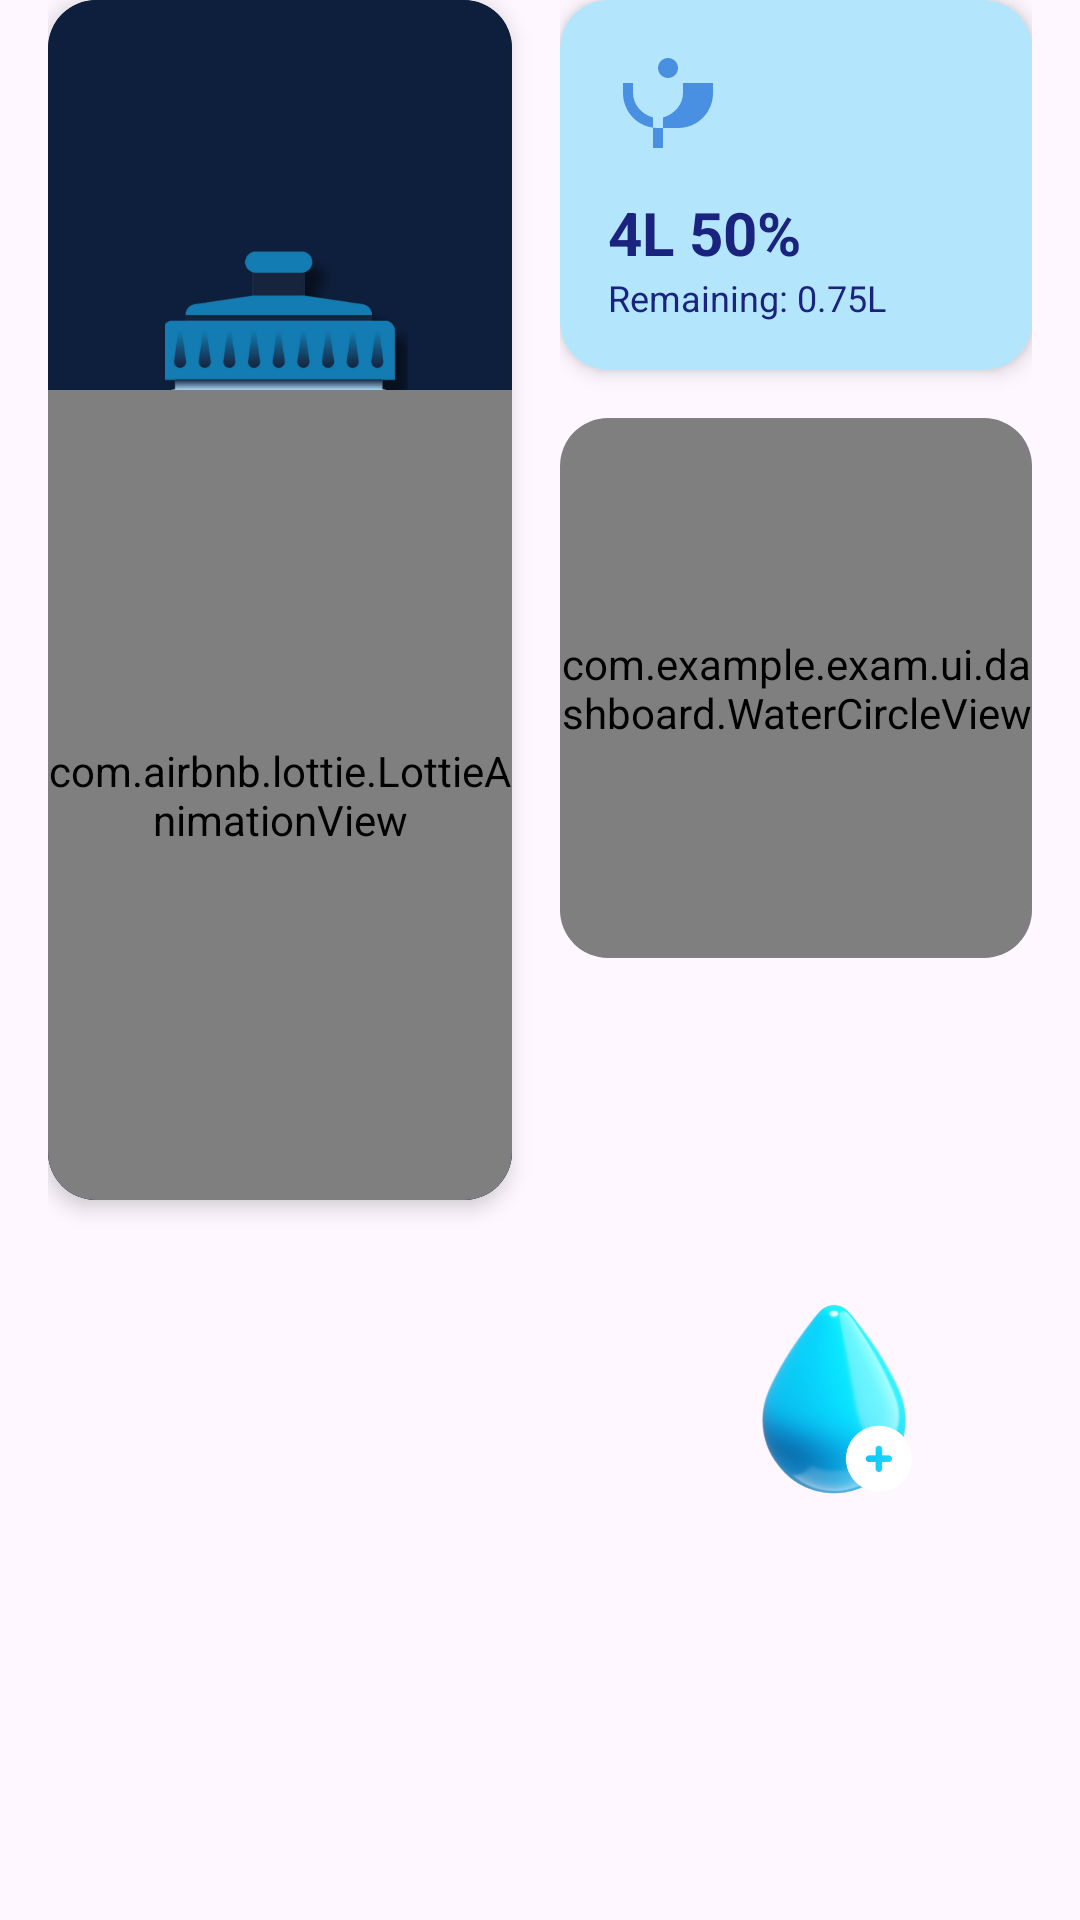

Point at icon controls on the screen. Image size 1080 x 1920, points as point (x, y).
Add Water: point (834, 1399)
